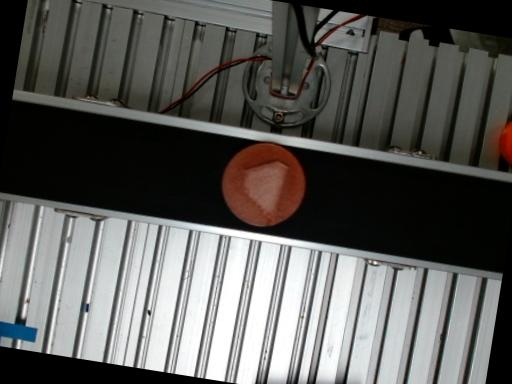Brown_Waper: (221, 143, 305, 226)
Not_Square: (243, 160, 288, 222)
